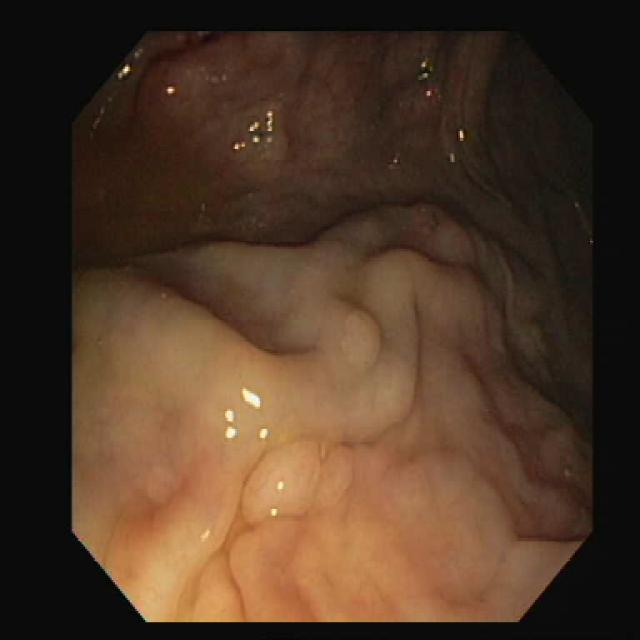tumor: (243, 438, 348, 513), (327, 302, 388, 371)
